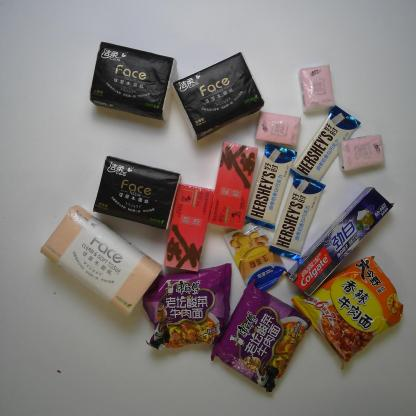Chocolate: (292, 106, 365, 184), (244, 143, 296, 229), (274, 174, 324, 262)
Instant Drink: (149, 184, 214, 272), (207, 143, 258, 230)
Instant Noodles: (299, 250, 403, 368), (209, 281, 312, 392), (137, 263, 231, 358)
Personal Hygiene: (288, 182, 394, 303)
Seasoner: (223, 213, 298, 297)
Tissue: (41, 204, 160, 316), (172, 51, 262, 140), (88, 33, 175, 124), (94, 155, 182, 231), (252, 107, 299, 151), (336, 130, 382, 173), (298, 63, 337, 110)
